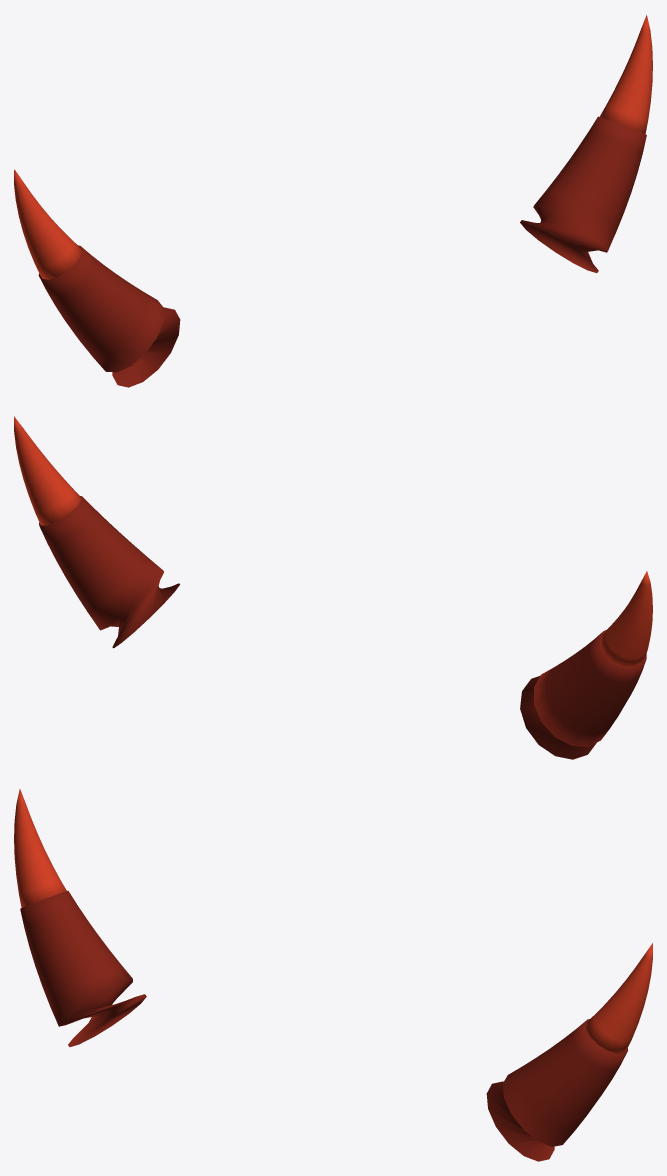
The model's file is horns.glb.
3 renders of one model, top to bottom at view 1: azimuth 30°, elevation 25°; view 2: azimuth 150°, elevation 25°; view 3: azimuth 330°, elevation 25°, orthographic.
Parts seen in each view (by area): view 1: hornbase__R, hornbase__L, horn__L, horn__R; view 2: hornbase__R, hornbase__L, horn__R, horn__L; view 3: hornbase__R, hornbase__L, horn__R, horn__L.
Part boxes in pixels (x1=…): hornbase__R: x1=520, y1=116, x2=646, y2=272; hornbase__L: x1=38, y1=245, x2=180, y2=387; horn__L: x1=14, y1=169, x2=81, y2=279; horn__R: x1=599, y1=14, x2=652, y2=133; hornbase__R: x1=39, y1=496, x2=179, y2=648; hornbase__L: x1=520, y1=630, x2=646, y2=759; horn__R: x1=14, y1=416, x2=81, y2=525; horn__L: x1=600, y1=571, x2=652, y2=667; hornbase__R: x1=486, y1=1019, x2=627, y2=1161; hornbase__L: x1=20, y1=890, x2=146, y2=1046; horn__R: x1=585, y1=943, x2=652, y2=1053; horn__L: x1=14, y1=789, x2=66, y2=907.
Size of the model in its own units: 0.492 by 0.1629 by 0.0629.
